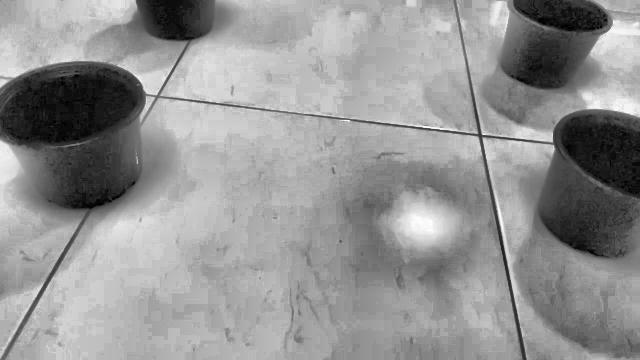pot: (0, 62, 146, 209), (538, 110, 640, 258), (500, 0, 612, 89), (136, 0, 214, 40)
